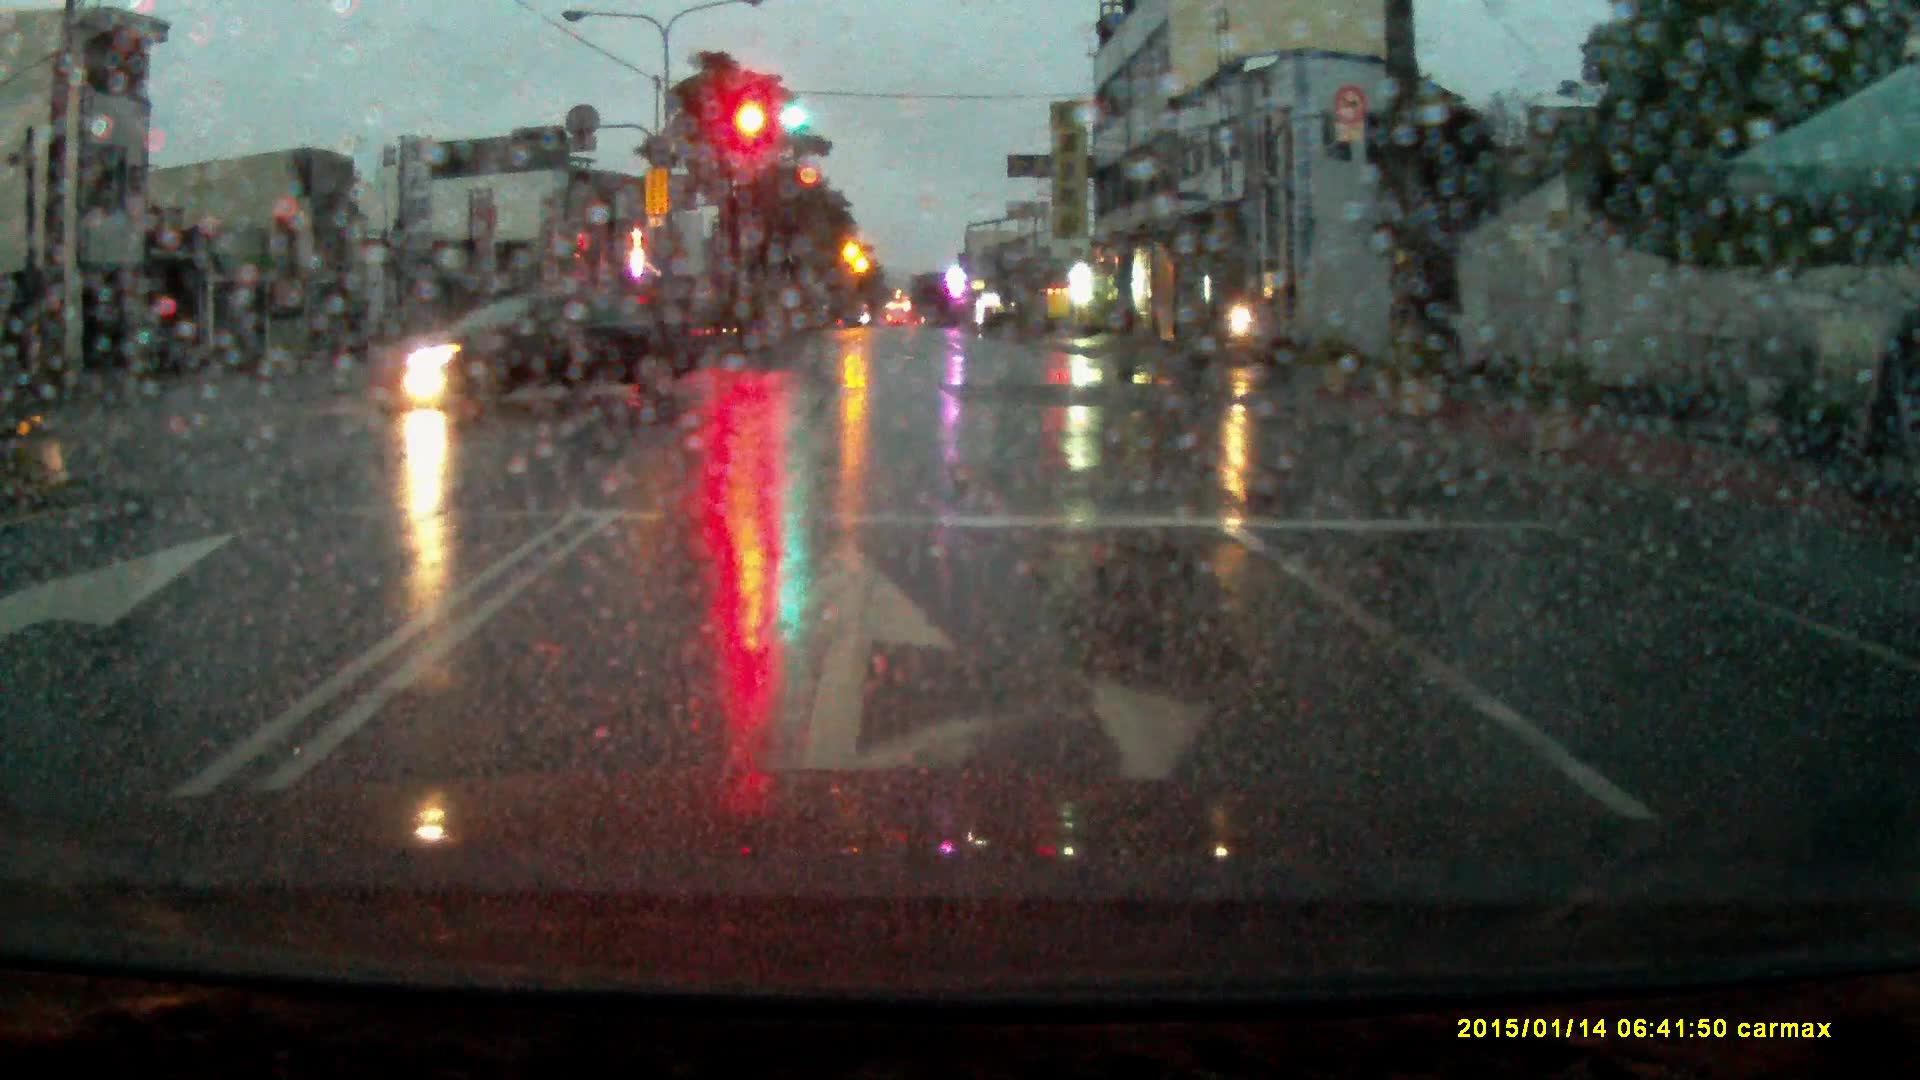rider: (1207, 279, 1292, 372)
vehicle: (367, 289, 699, 410)
